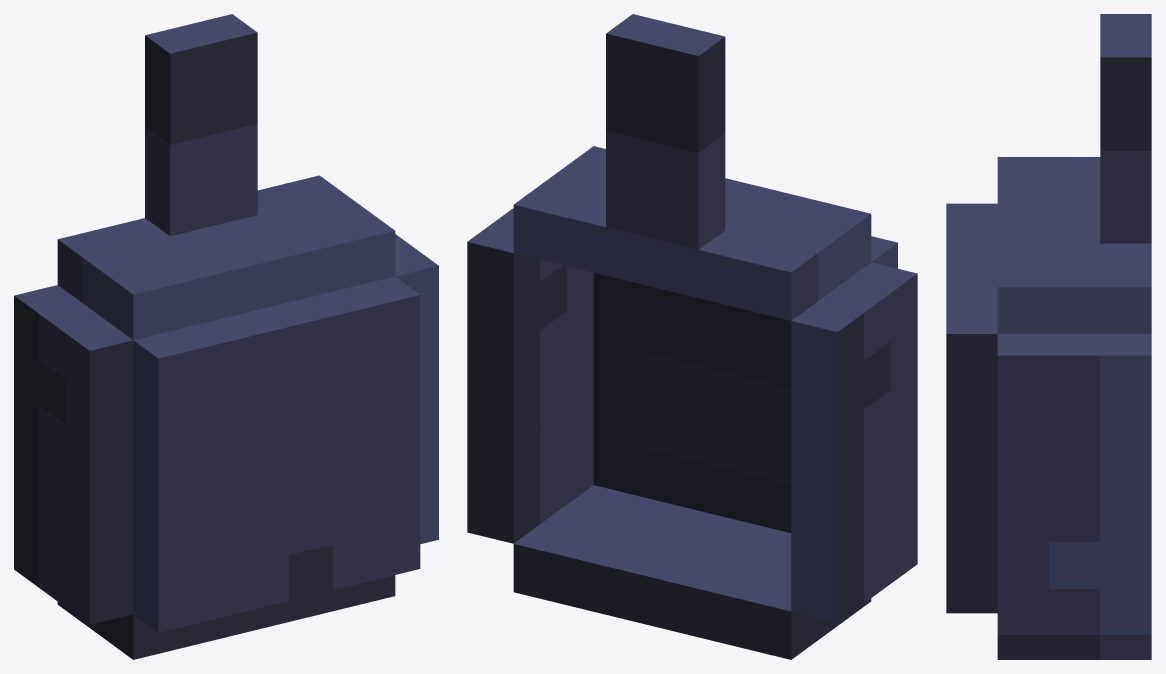
File: food_stuff_3ao.fezao.glb
3 renders of one model, left to right at view 1: azimuth 30°, elevation 25°; view 2: azimuth 150°, elevation 25°; view 3: azimuth 270°, elevation 25°, orthographic. The views are drawn at different scales.
Parts seen in each view (by area): view 1: FOOD_STUFF_3AO; view 2: FOOD_STUFF_3AO; view 3: FOOD_STUFF_3AO.
Part boxes in pixels (x1=…): FOOD_STUFF_3AO: x1=14, y1=14, x2=438, y2=659; FOOD_STUFF_3AO: x1=467, y1=14, x2=917, y2=659; FOOD_STUFF_3AO: x1=946, y1=14, x2=1151, y2=659.
Bounding box in the file's own units: 0.5 × 0.75 × 0.25.
Materials: 1 (1 with a texture image).
